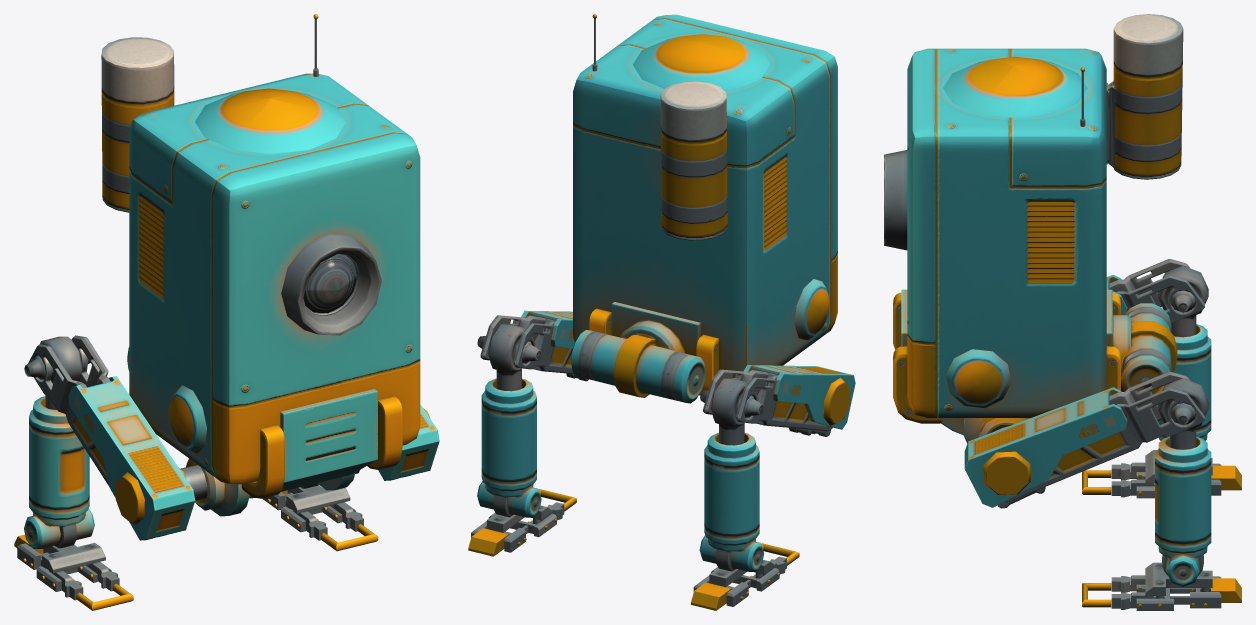
Rendered from robot.obj.
3 views of the same model, side by side, from view 1: azimuth 30°, elevation 25°; view 2: azimuth 150°, elevation 25°; view 3: azimuth 270°, elevation 25° (orthographic). The views are drawn at different scales.
Parts seen in each view (by area): view 1: SM_Robot; view 2: SM_Robot; view 3: SM_Robot.
Part boxes in pixels (x1,y1,x2,y2): SM_Robot: (14, 14, 439, 610); SM_Robot: (468, 14, 855, 610); SM_Robot: (884, 14, 1241, 610).
Bounding box in the file's own units: 50.03 × 84.02 × 53.22.
